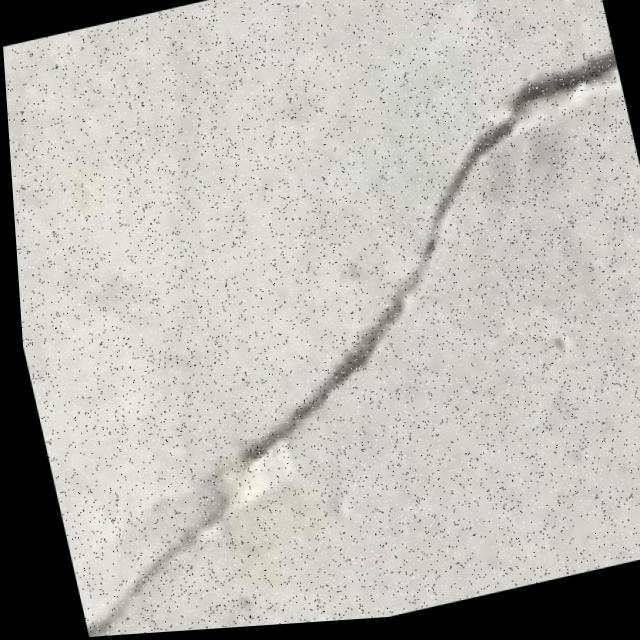Crack: (4, 42, 640, 640)
